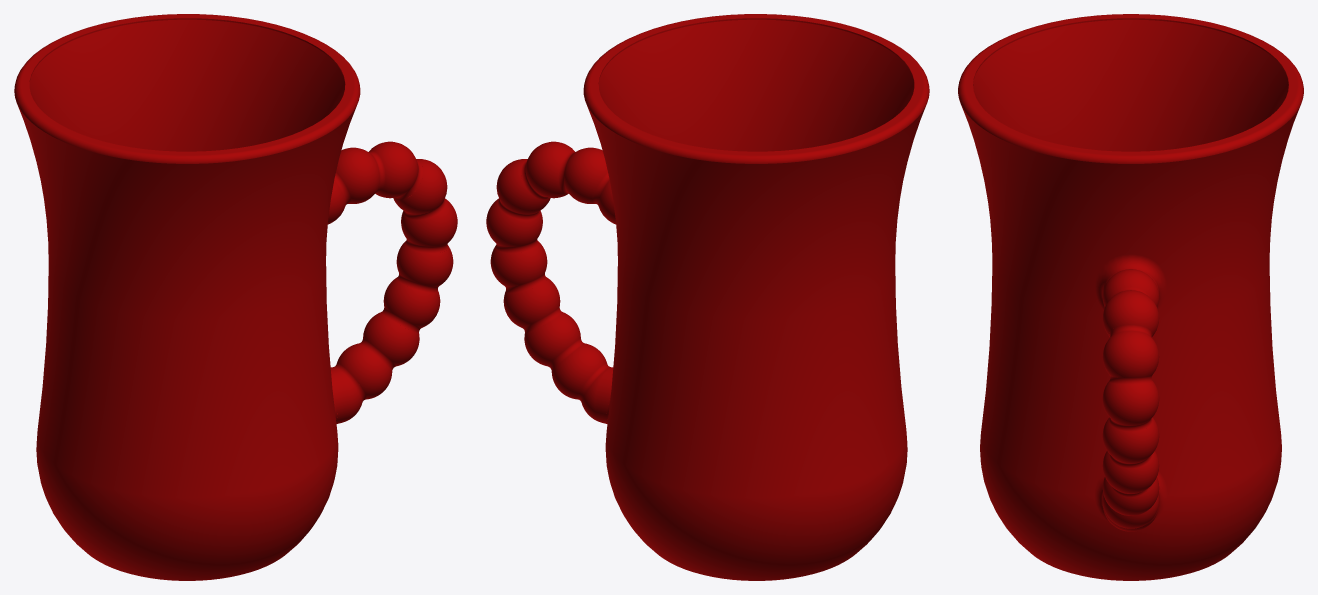
The picture shows the model from 3 angles, left to right: view 1: azimuth 30°, elevation 25°; view 2: azimuth 150°, elevation 25°; view 3: azimuth 270°, elevation 25°; orthographic projection.
Bounding box in the file's own units: 0.0875 × 0.0915 × 0.063.
